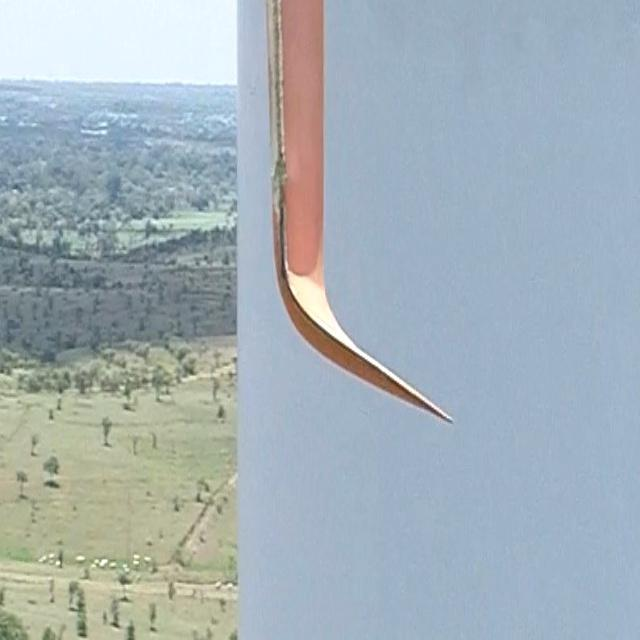EROSION: (277, 204, 417, 399)
